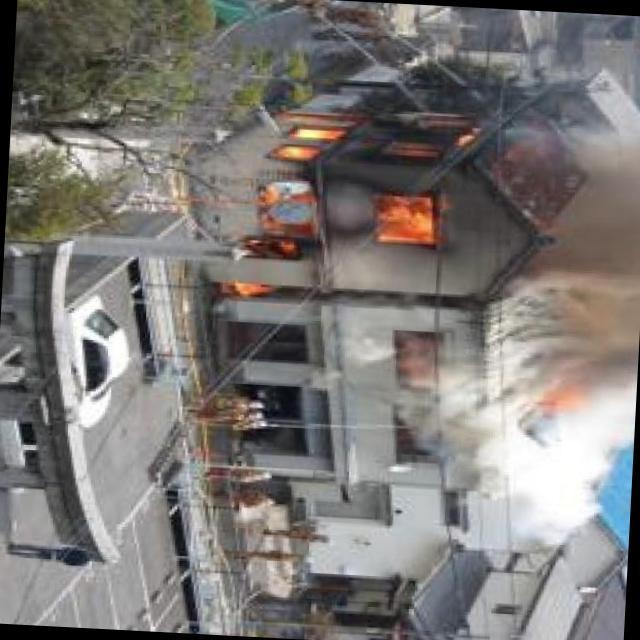Fire: (230, 55, 491, 309)
